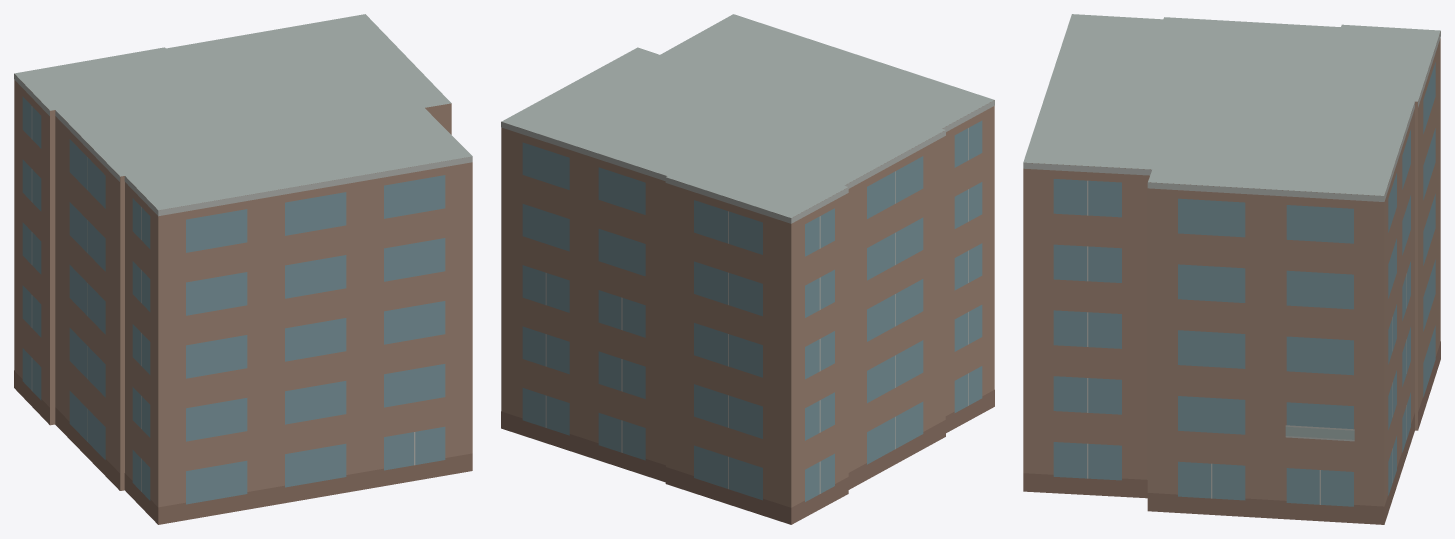
File: survey-upis-32928386.glb
3 views of the same model, side by side, from view 1: azimuth 30°, elevation 25°; view 2: azimuth 150°, elevation 25°; view 3: azimuth 270°, elevation 25° (orthographic). The views are drawn at different scales.
Visible parts, largest first — view 1: survey-upis-32928386.tmp; view 2: survey-upis-32928386.tmp; view 3: survey-upis-32928386.tmp.
Part boxes in pixels (left/top/right/bottom): survey-upis-32928386.tmp: left=14, top=14, right=472, bottom=524; survey-upis-32928386.tmp: left=501, top=14, right=994, bottom=524; survey-upis-32928386.tmp: left=1023, top=14, right=1440, bottom=524.
Size of the model in its own units: 15.52 by 13.07 by 15.05.
